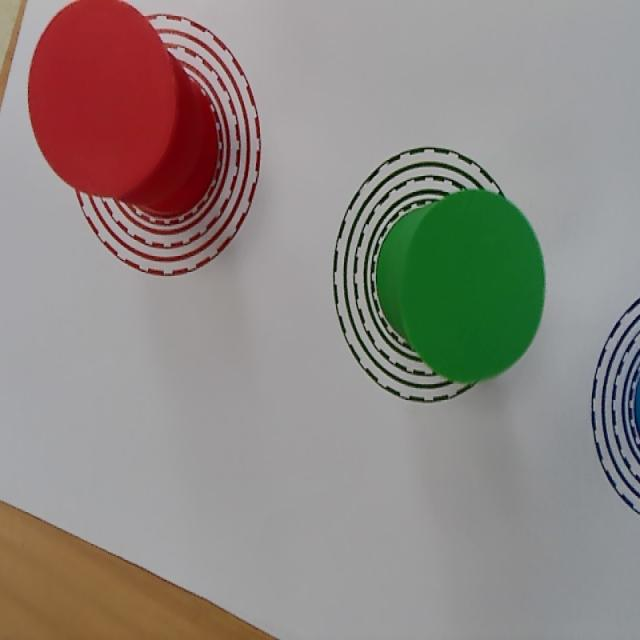g: (401, 190, 547, 380)
